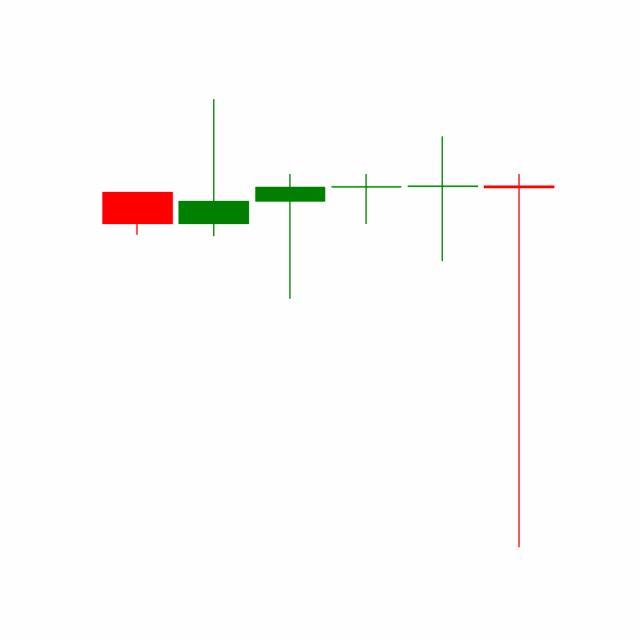Spinning Top: (404, 135, 482, 263)
